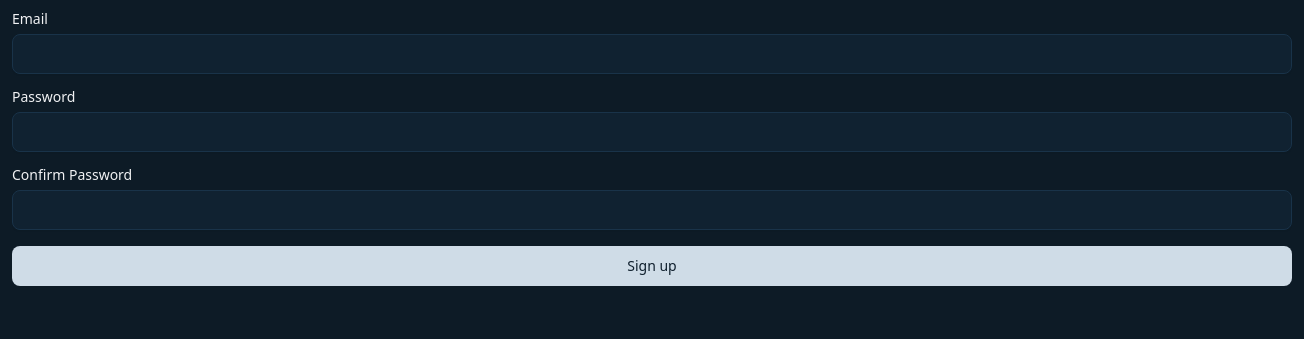
it: <RegisterForm /> › renders error message if success is false
Type "test@example.com" into the field labelled "Email". click: (652,54)
box: [12, 34, 1292, 74]
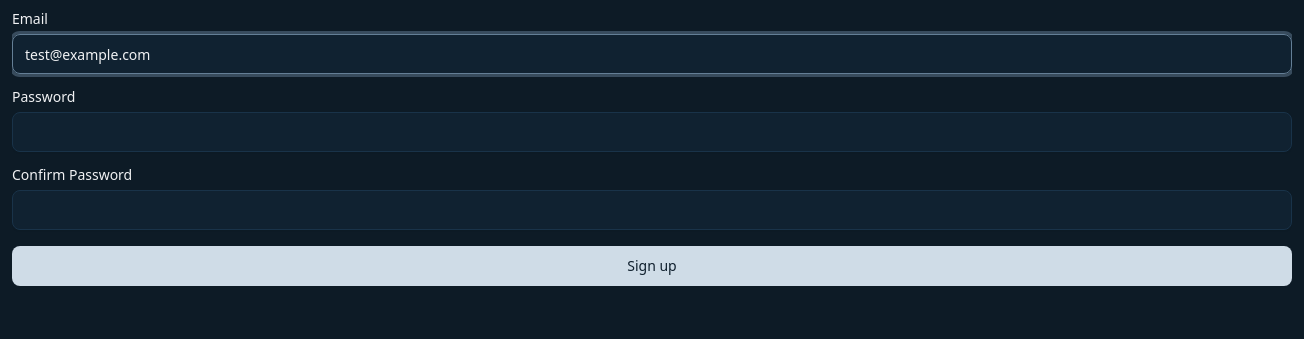
Type "P@ssw0rd" into the password field labelled "Password". click: (652,132)
box: [12, 112, 1292, 152]
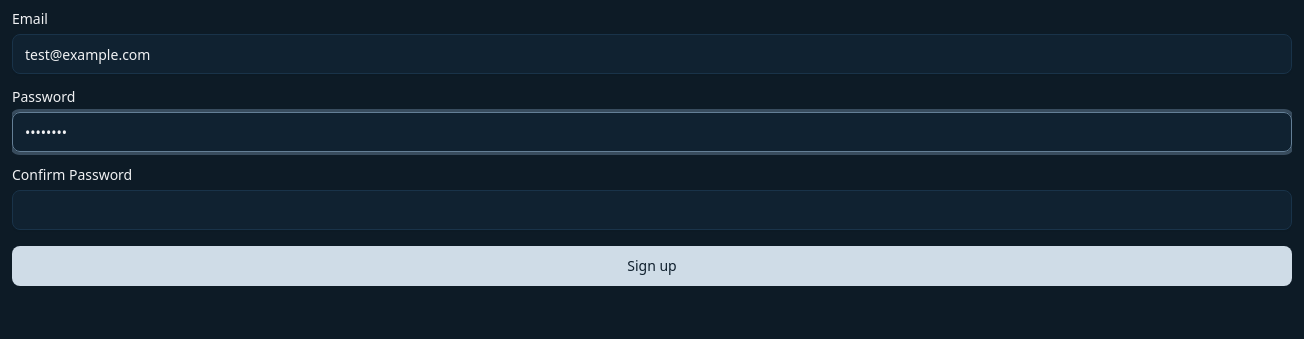
Type "P@ssw0rd" into the password field labelled "Confirm Password". click: (652,210)
box: [12, 190, 1292, 230]
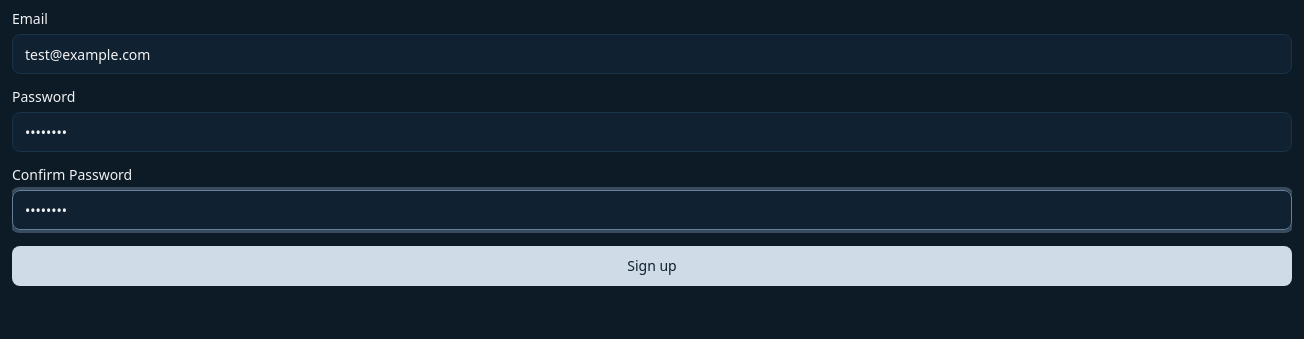
Click the button "Sign up". click: (652,266)
box: [12, 246, 1292, 286]
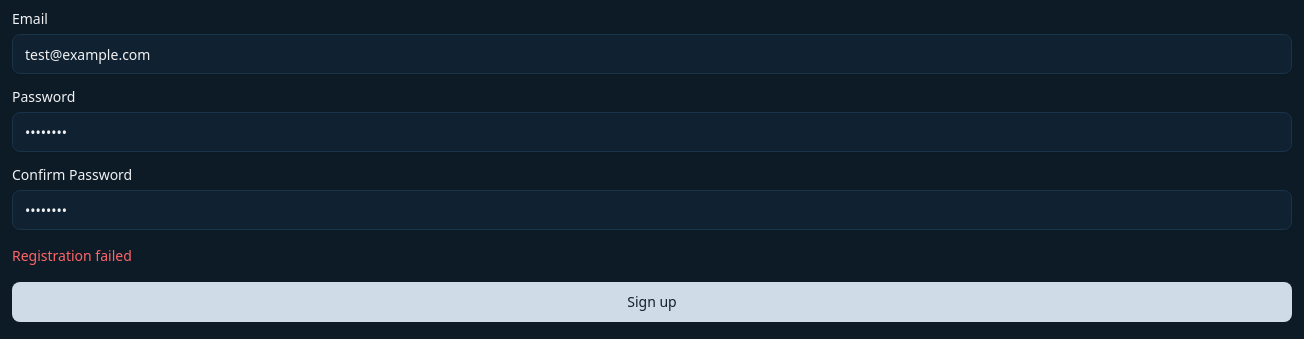
Expected: the text "Registration failed" is shown, [12, 246, 132, 265]
